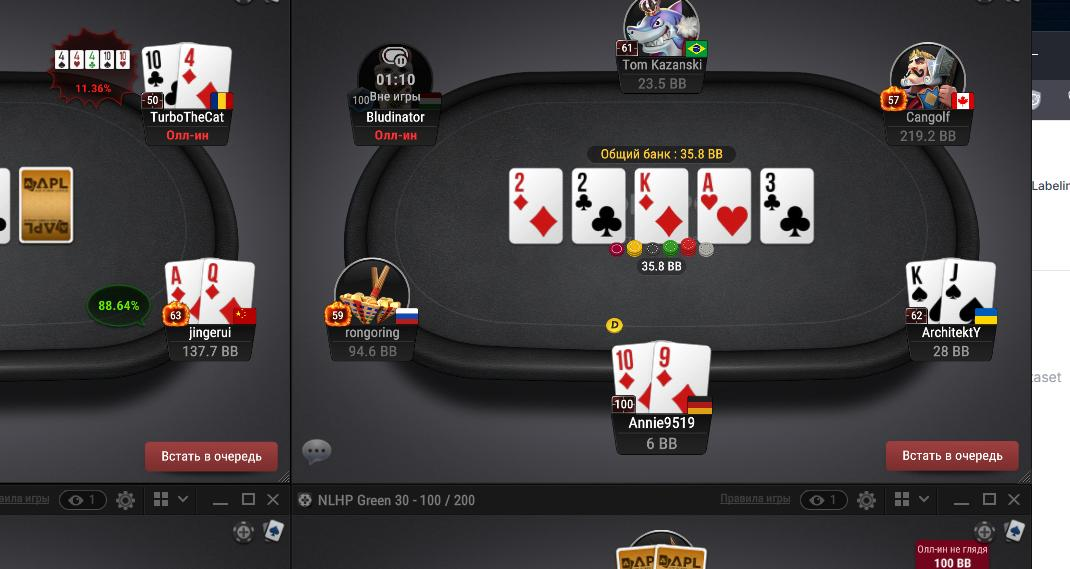10c: (142, 45, 179, 111)
10d: (612, 342, 654, 413)
2c: (572, 168, 625, 242)
2d: (510, 166, 562, 245)
3c: (760, 170, 813, 242)
4d: (178, 43, 231, 109)
9d: (653, 343, 711, 417)
Ad: (165, 261, 204, 325)
Ah: (698, 170, 752, 243)
Js: (943, 259, 998, 328)
Kd: (636, 169, 685, 242)
Ks: (906, 257, 944, 325)
Qd: (202, 256, 256, 328)
